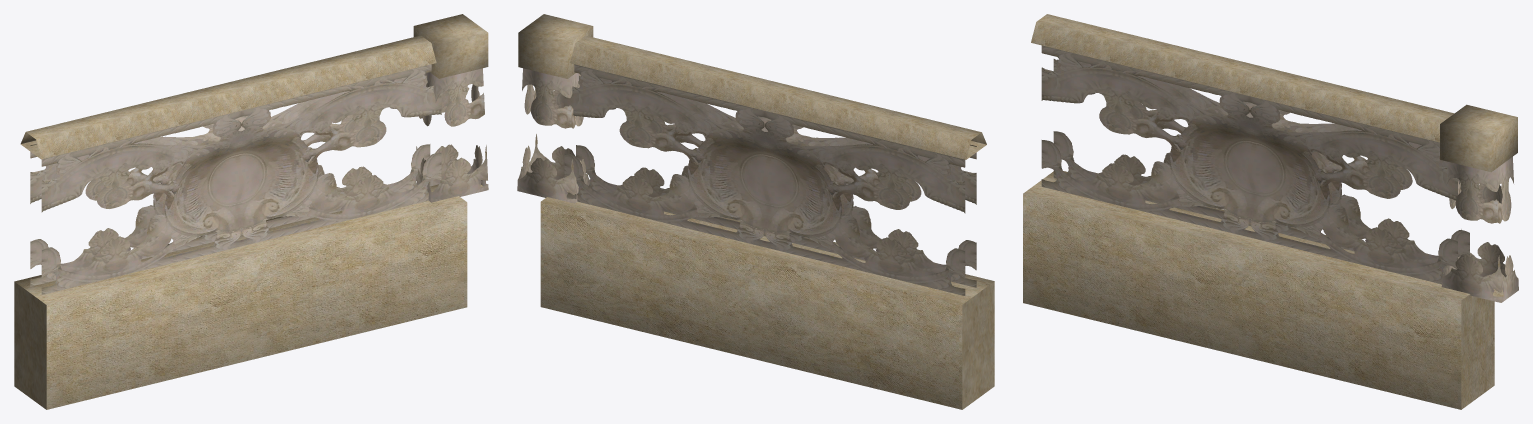
File: thm_nboo_imprv_pillar_wall_ornate_small_s01_l1.fbx
3 views of the same model, side by side, from view 1: azimuth 30°, elevation 25°; view 2: azimuth 150°, elevation 25°; view 3: azimuth 330°, elevation 25° (orthographic). The views are drawn at different scales.
Visible parts, largest first — view 1: mesh_node; view 2: mesh_node; view 3: mesh_node.
Boxes of the visible parts, left/top/right/bottom form: mesh_node: left=14, top=14, right=488, bottom=409; mesh_node: left=517, top=14, right=994, bottom=409; mesh_node: left=1023, top=14, right=1518, bottom=409.
Size of the model in its own units: 2.77 by 1.56 by 0.342.
